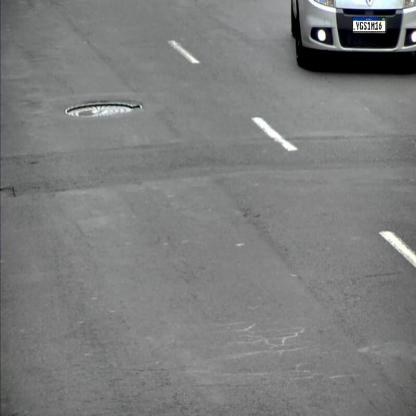PlacaM: (352, 17, 386, 32)
